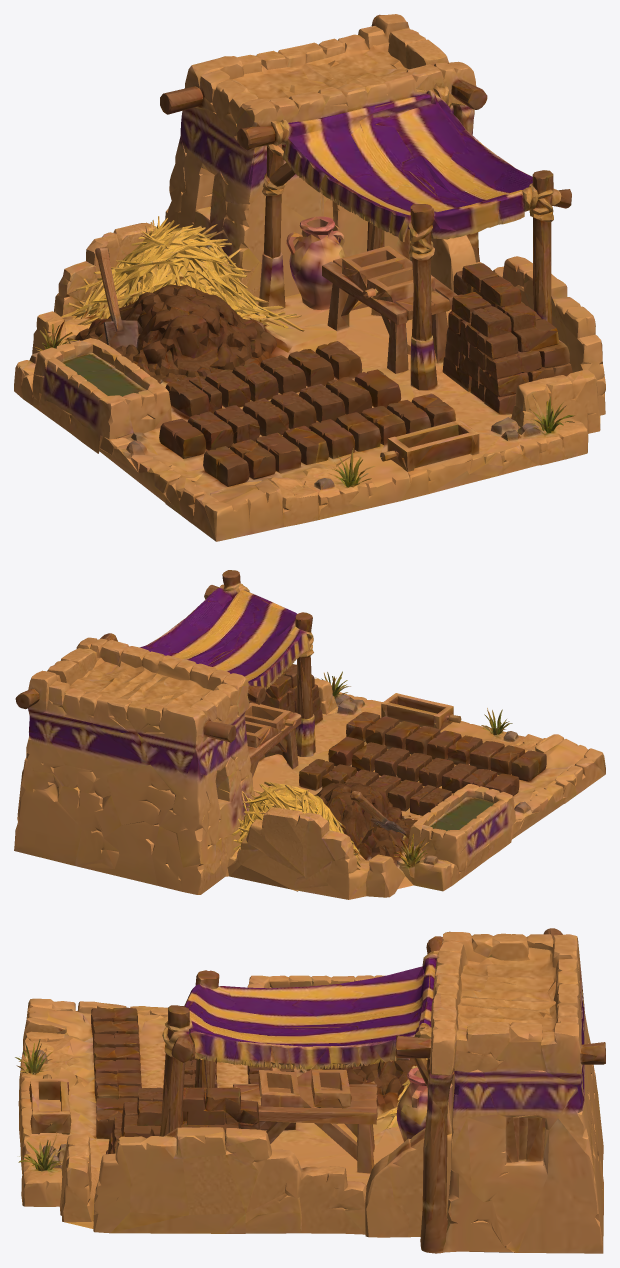
Rendered from brickworks.glb.
3 views of the same model, one above another, from view 1: azimuth 30°, elevation 25°; view 2: azimuth 150°, elevation 25°; view 3: azimuth 270°, elevation 25° (orthographic). The views are drawn at different scales.
Size of the model in its own units: 1.73 by 0.7685 by 1.9.
1 material, 1 textured.
